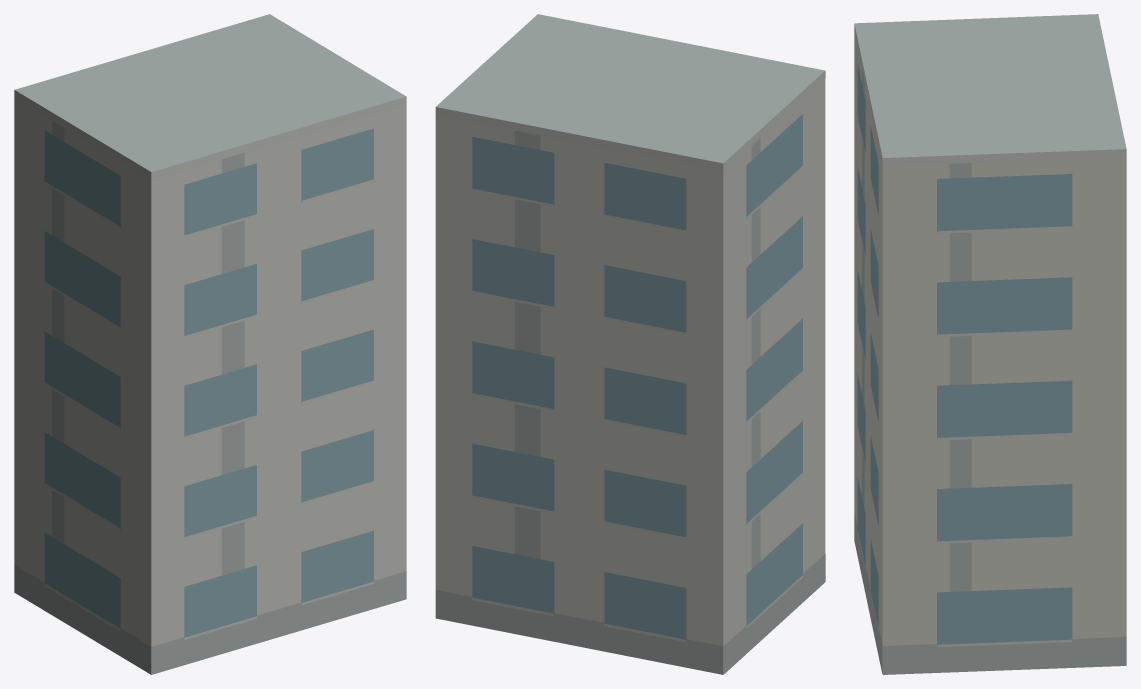
The model's file is residential-eb3502f1-b935-4ca5-9e83-a1c8ebcb59d8.glb.
3 views of the same model, side by side, from view 1: azimuth 30°, elevation 25°; view 2: azimuth 150°, elevation 25°; view 3: azimuth 270°, elevation 25° (orthographic). The views are drawn at different scales.
Visible parts, largest first — view 1: residential-eb3502f1-b935-4ca5-9e83-a1c8ebcb59d8.tmp; view 2: residential-eb3502f1-b935-4ca5-9e83-a1c8ebcb59d8.tmp; view 3: residential-eb3502f1-b935-4ca5-9e83-a1c8ebcb59d8.tmp.
Boxes of the visible parts, x1,y1,x2,y2 form: residential-eb3502f1-b935-4ca5-9e83-a1c8ebcb59d8.tmp: (14,14,406,674); residential-eb3502f1-b935-4ca5-9e83-a1c8ebcb59d8.tmp: (435,14,825,674); residential-eb3502f1-b935-4ca5-9e83-a1c8ebcb59d8.tmp: (854,14,1126,674).
Size of the model in its own units: 9.13 by 15.25 by 7.29.
